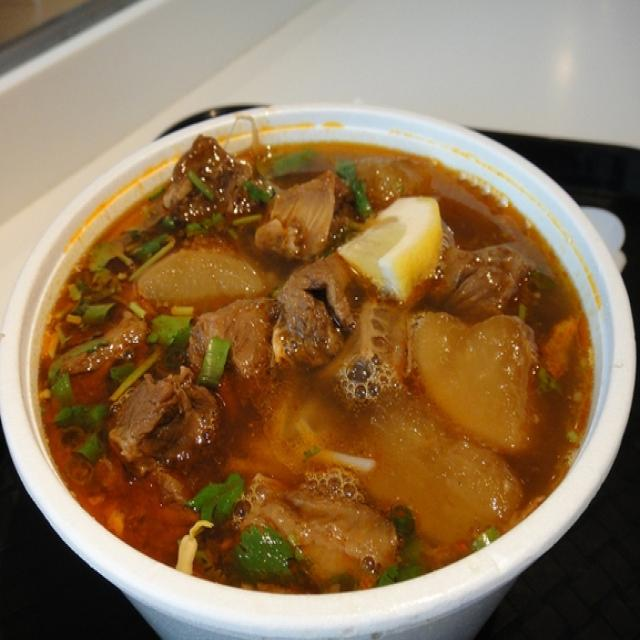面条主食: (20, 90, 613, 611)
